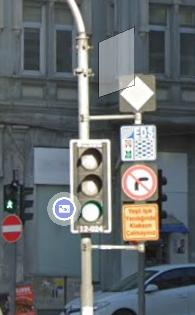rightturnsareforbidden: (122, 164, 159, 200)
